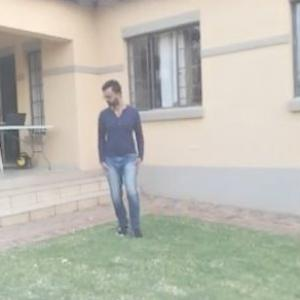follow: (95, 74, 144, 241)
